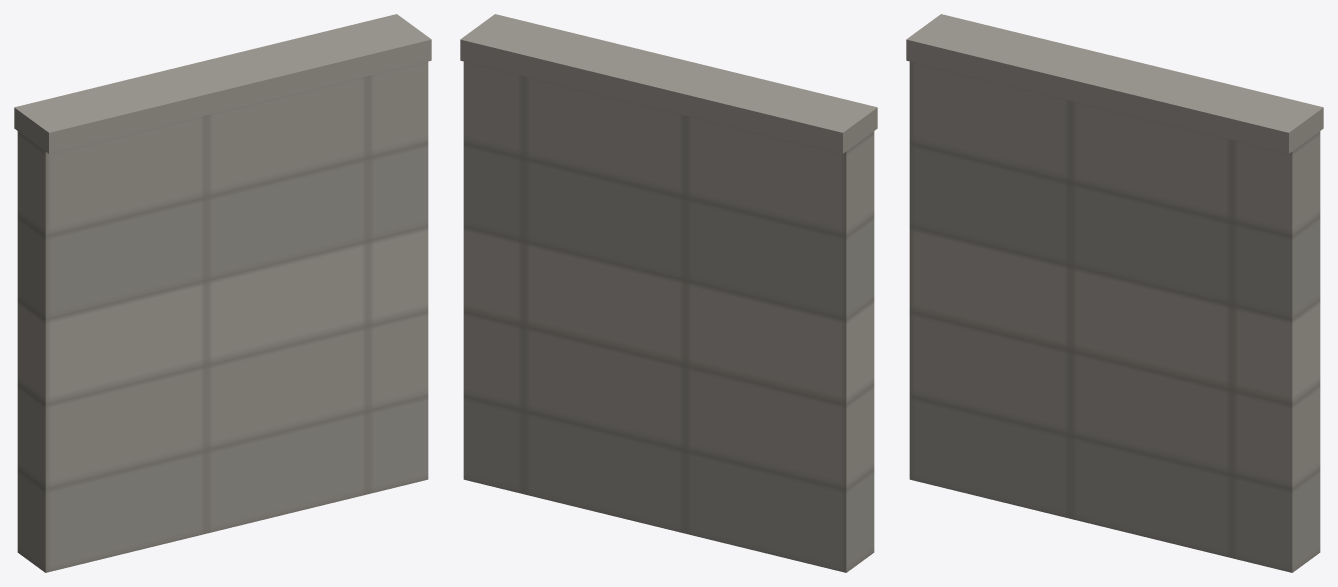
Rendered from SM_Lot_GapFence_Block_950_01.fbx.
3 renders of one model, left to right at view 1: azimuth 30°, elevation 25°; view 2: azimuth 150°, elevation 25°; view 3: azimuth 330°, elevation 25°, orthographic.
Parts seen in each view (by area): view 1: SM_Lot_GapFence_Block_950_01; view 2: SM_Lot_GapFence_Block_950_01; view 3: SM_Lot_GapFence_Block_950_01.
Boxes of the visible parts, x1,y1,x2,y2 form: SM_Lot_GapFence_Block_950_01: (14,14,431,572); SM_Lot_GapFence_Block_950_01: (460,14,877,572); SM_Lot_GapFence_Block_950_01: (906,14,1323,572).
Bounding box in the file's own units: 0.95 × 1.05 × 0.15.
Materials: 1 (1 with a texture image).
